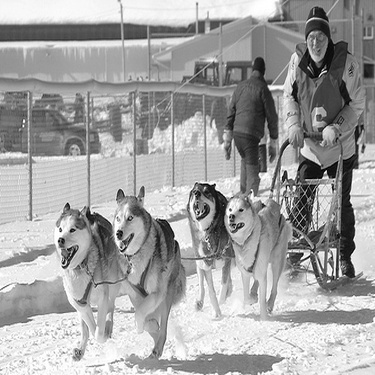dog: (76, 178, 195, 367), (29, 199, 137, 369), (214, 175, 297, 333), (160, 176, 245, 324)
